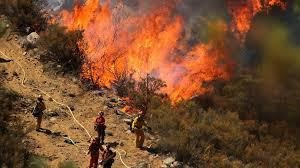fire: (61, 1, 244, 107)
